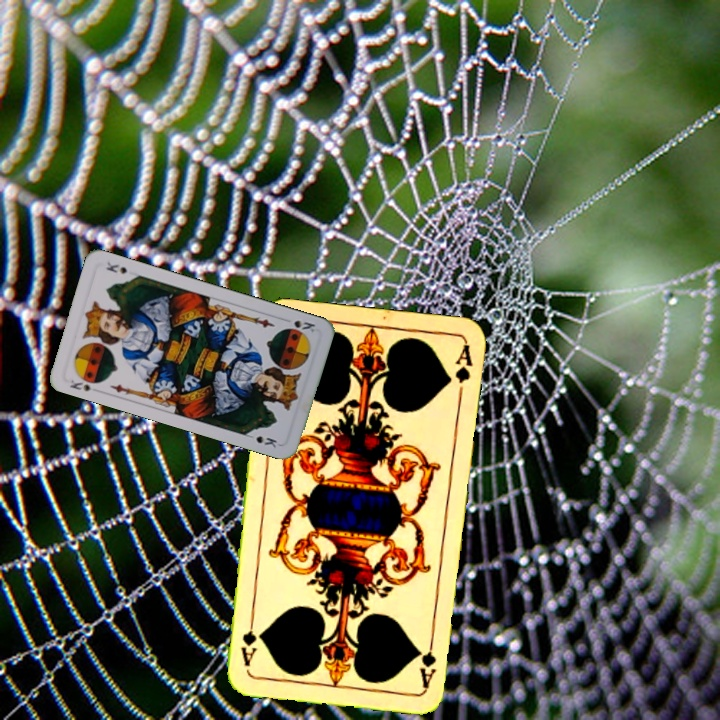GA: (416, 630, 439, 689)
SK: (66, 372, 103, 394), (290, 316, 318, 336)
